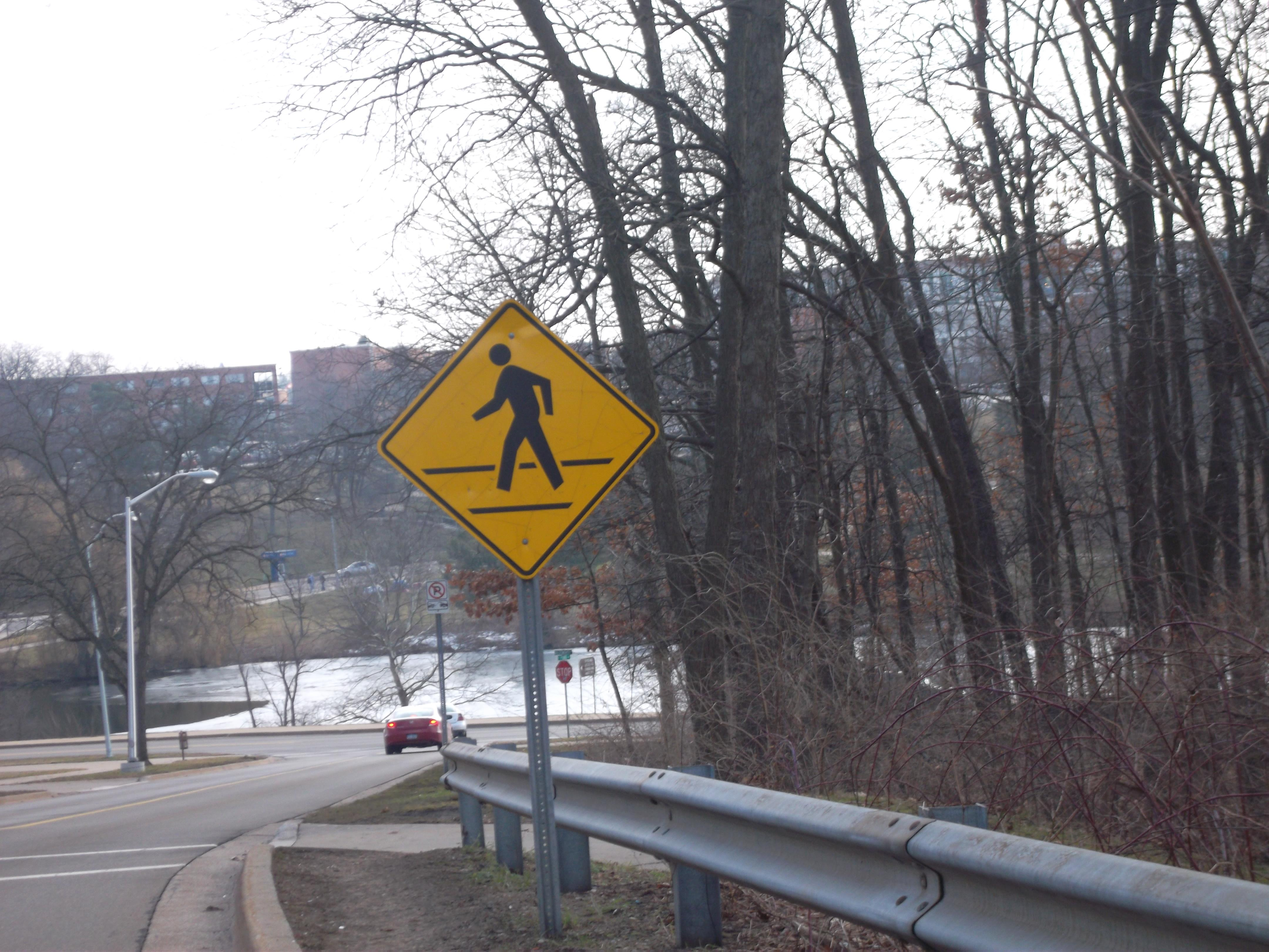Pedestrian Crossing: (387, 436, 564, 630)
